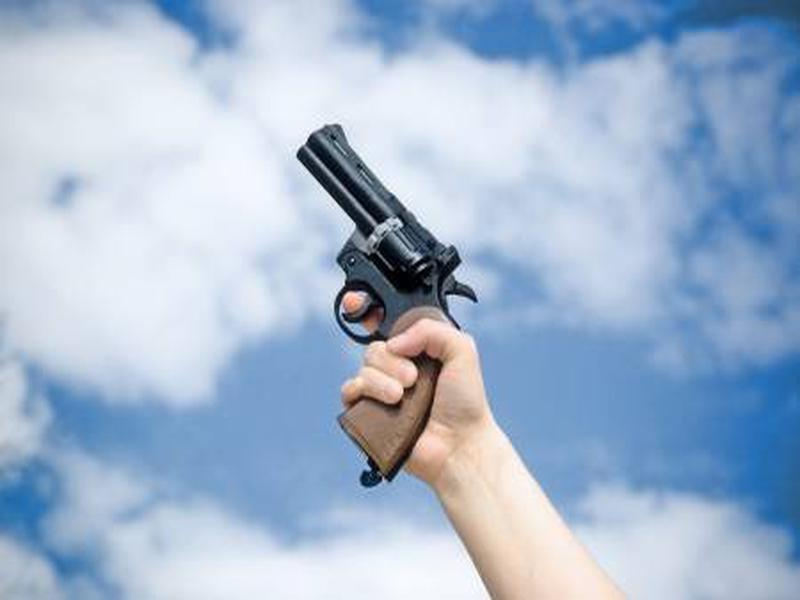Revolver: (283, 106, 483, 492)
